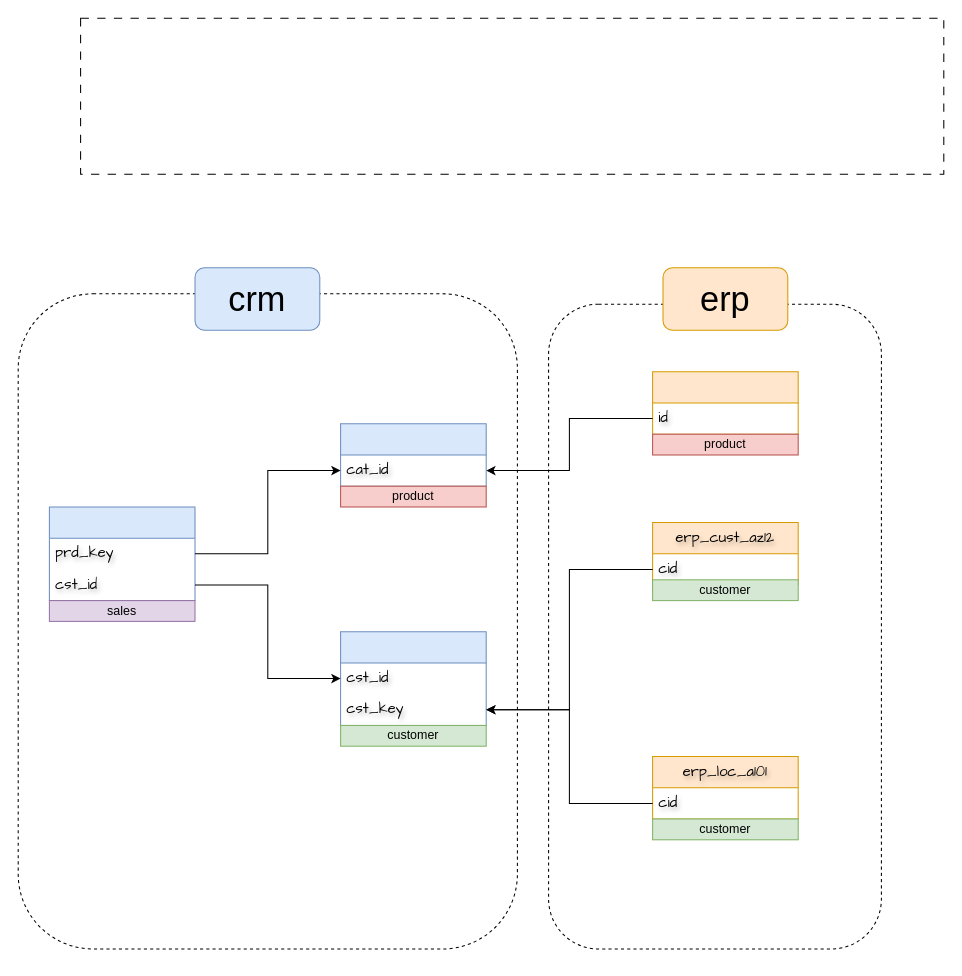
This 962x976 diagram has some shape labels left out. Here are the shapes that lost their labels. From the top down, the box of each, then its label:
(80, 17, 944, 174): integration model
(652, 371, 798, 434): erp_px_cat_g1v2
(340, 423, 486, 486): crm_prd_info
(48, 506, 195, 601): crm_sales_details
(340, 631, 486, 725): crm_cust_info
